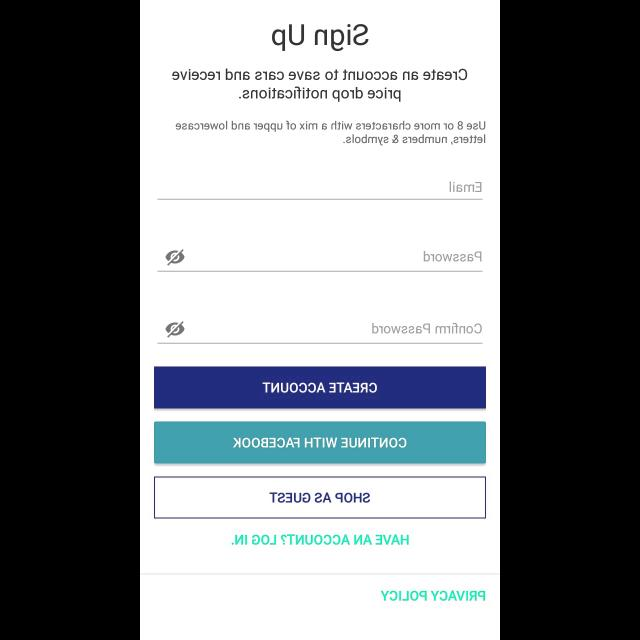icon: (165, 250, 185, 266), (165, 322, 185, 338)
input: (158, 248, 482, 272), (158, 321, 482, 344), (158, 182, 482, 200)
text: (172, 70, 468, 102), (175, 120, 485, 146), (272, 24, 368, 52), (232, 534, 408, 546), (381, 590, 485, 602), (371, 322, 481, 333), (423, 250, 481, 262), (448, 182, 482, 192)
textbutton: (154, 477, 486, 519), (154, 421, 486, 463), (154, 367, 486, 409)
